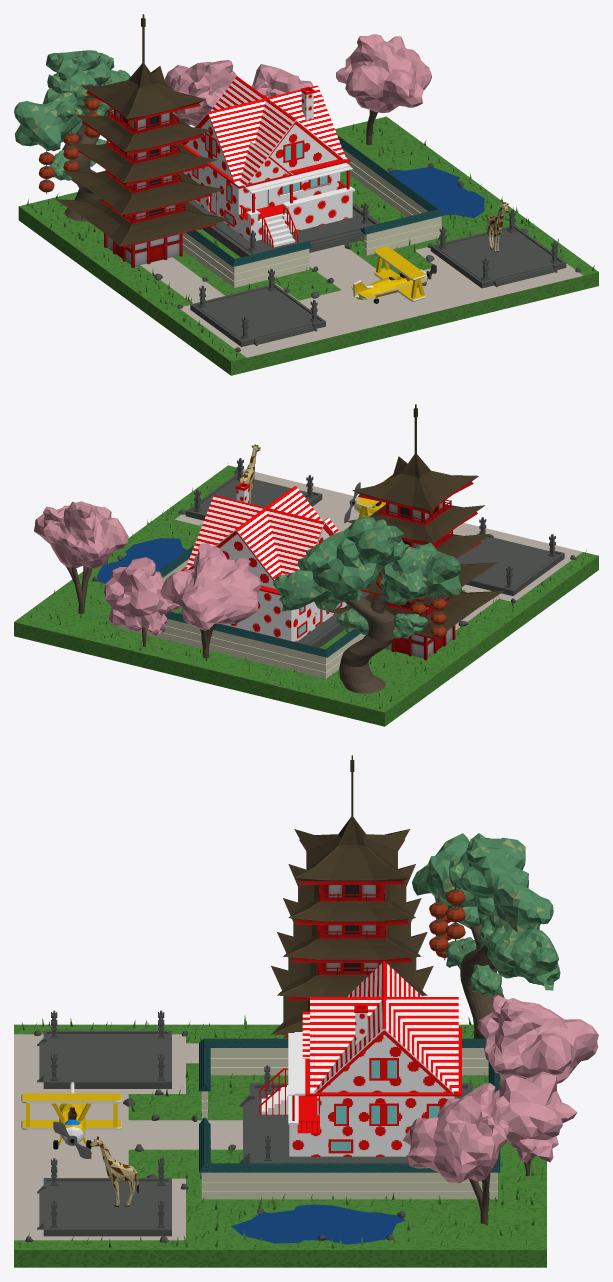
3 views of the same model, one above another, from view 1: azimuth 30°, elevation 25°; view 2: azimuth 150°, elevation 25°; view 3: azimuth 270°, elevation 25° (orthographic). The views are drawn at different scales.
Parts seen in each view (by area): view 1: Cube.005, Cube.196, VEHICLES_AIRPLANE, ANIMAL_JIRAFA; view 2: Cube.005, Cube.196, VEHICLES_AIRPLANE; view 3: Cube.005, Cube.196, VEHICLES_AIRPLANE, ANIMAL_JIRAFA.
Part boxes in pixels (left/top/right/bottom): Cube.005: left=14, top=14, right=598, bottom=375; Cube.196: left=179, top=76, right=355, bottom=248; VEHICLES_AIRPLANE: left=350, top=246, right=436, bottom=303; ANIMAL_JIRAFA: left=487, top=202, right=508, bottom=252; Cube.005: left=14, top=404, right=598, bottom=726; Cube.196: left=181, top=482, right=347, bottom=641; VEHICLES_AIRPLANE: left=344, top=474, right=393, bottom=523; Cube.005: left=14, top=755, right=598, bottom=1267; Cube.196: left=259, top=961, right=461, bottom=1156; VEHICLES_AIRPLANE: left=21, top=1082, right=121, bottom=1158; ANIMAL_JIRAFA: left=89, top=1136, right=138, bottom=1206.
Size of the model in its own units: 4528 by 2668 by 4389.
42 materials, 6 textured.
